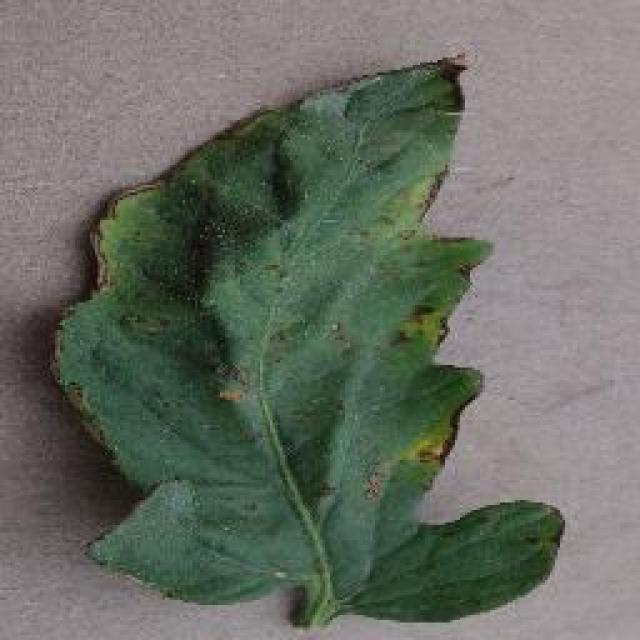Tomato bacterial spot leaf: (59, 50, 569, 630)
